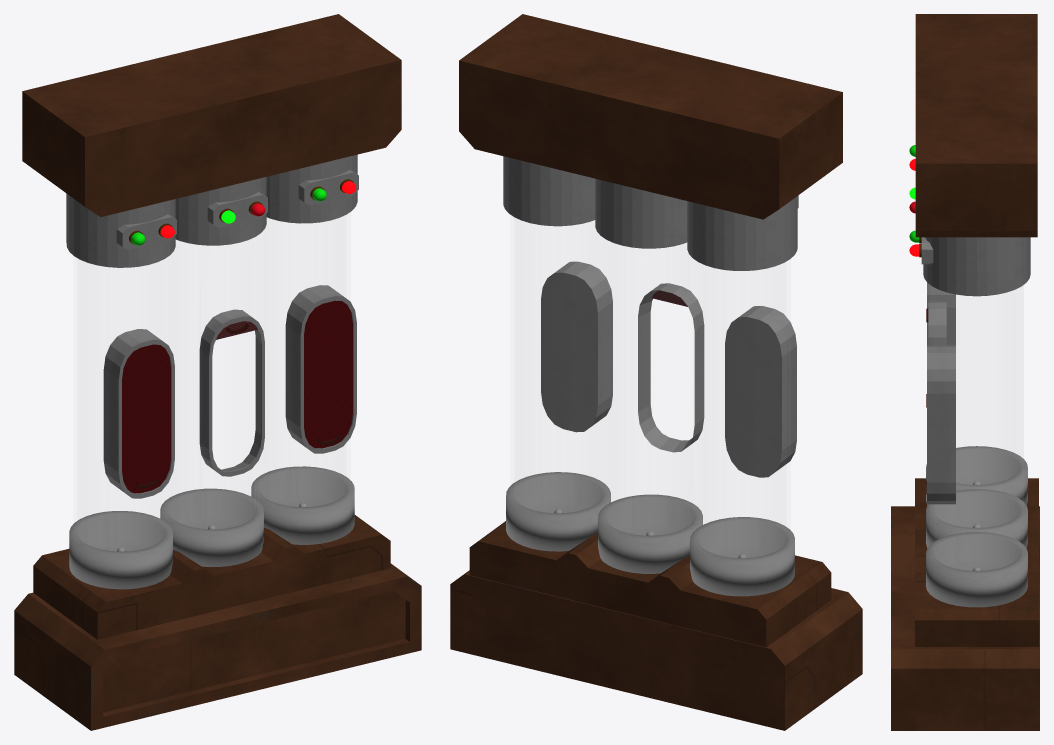
File: Final_Delivery tubes.glb
3 renders of one model, left to right at view 1: azimuth 30°, elevation 25°; view 2: azimuth 150°, elevation 25°; view 3: azimuth 270°, elevation 25°, orthographic. The views are drawn at different scales.
Parts seen in each view (by area): view 1: Cube.002, Cube.001, Cube, Cylinder.009, Cube.011, Cylinder.011, Cylinder.010, Cube.014, Cylinder.001, Cylinder, Cylinder.002, Cube.008 (+2 smaller); view 2: Cube.002, Cube.001, Cube, Cube.006, Cube.013, Cylinder.009, Cylinder.011, Cylinder.010, Cylinder.001, Cylinder, Cylinder.002, Cube.008; view 3: Cube.002, Cube.001, Cube, Cylinder.011, Cylinder.002, Cube.013, Cylinder.010, Cylinder.009, Cube.006, Cube.008.
Part boxes in pixels (x1=…): Cube.002: x1=22, y1=14, x2=401, y2=216; Cube.001: x1=14, y1=563, x2=421, y2=730; Cube: x1=33, y1=515, x2=390, y2=639; Cylinder.009: x1=69, y1=511, x2=172, y2=589; Cube.011: x1=122, y1=344, x2=170, y2=493; Cylinder.011: x1=251, y1=466, x2=354, y2=544; Cylinder.010: x1=160, y1=488, x2=263, y2=567; Cube.014: x1=304, y1=300, x2=352, y2=448; Cylinder.001: x1=66, y1=193, x2=176, y2=267; Cylinder: x1=175, y1=177, x2=267, y2=245; Cylinder.002: x1=266, y1=154, x2=358, y2=223; Cube.008: x1=199, y1=309, x2=264, y2=476; Cube.002: x1=459, y1=14, x2=842, y2=219; Cube.001: x1=450, y1=570, x2=862, y2=730; Cube: x1=469, y1=521, x2=831, y2=647; Cube.006: x1=725, y1=306, x2=796, y2=477; Cube.013: x1=541, y1=261, x2=612, y2=432; Cylinder.009: x1=690, y1=517, x2=794, y2=596; Cylinder.011: x1=506, y1=472, x2=610, y2=551; Cylinder.010: x1=598, y1=494, x2=702, y2=573; Cylinder.001: x1=687, y1=195, x2=798, y2=270; Cylinder: x1=595, y1=178, x2=687, y2=248; Cylinder.002: x1=503, y1=156, x2=595, y2=226; Cube.008: x1=638, y1=283, x2=704, y2=452; Cube.002: x1=915, y1=14, x2=1037, y2=237; Cube.001: x1=891, y1=506, x2=1039, y2=730; Cube: x1=915, y1=478, x2=1038, y2=646; Cylinder.011: x1=926, y1=532, x2=1027, y2=607; Cylinder.002: x1=921, y1=237, x2=1030, y2=296; Cube.013: x1=927, y1=345, x2=955, y2=504; Cylinder.010: x1=926, y1=489, x2=1027, y2=547; Cylinder.009: x1=926, y1=446, x2=1027, y2=504; Cube.006: x1=927, y1=282, x2=955, y2=345; Cube.008: x1=928, y1=301, x2=946, y2=345.
Size of the model in its own units: 8.93 by 15.04 by 3.6.
Materials: 18 (15 with a texture image).
